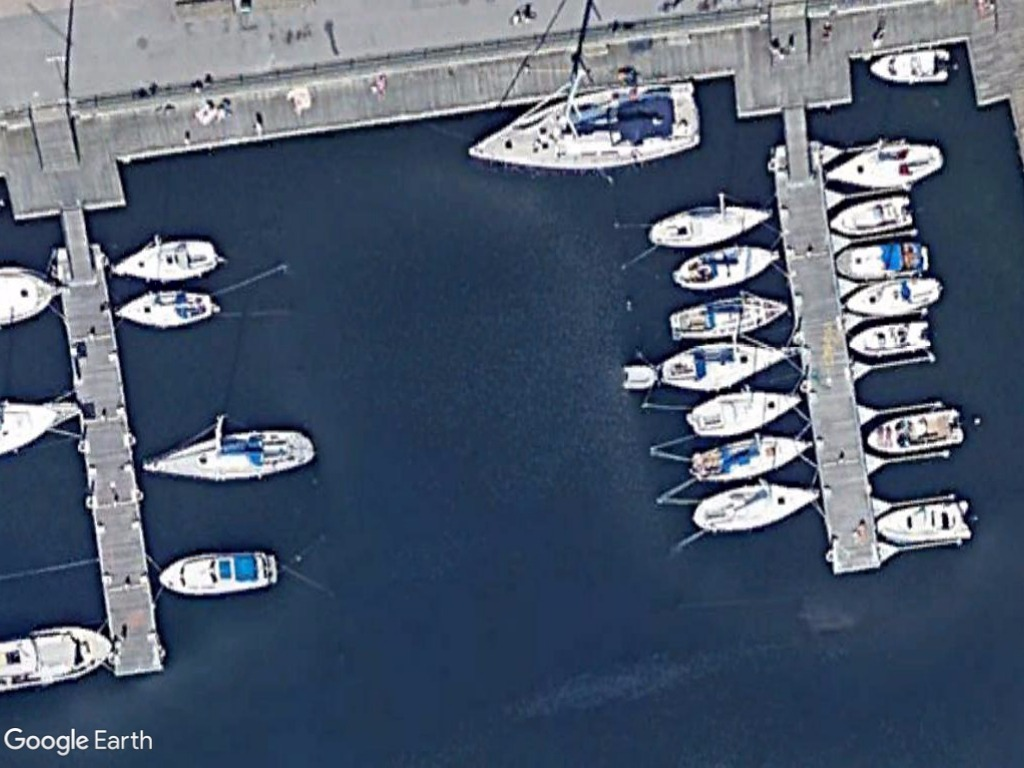boat: (462, 77, 703, 177), (136, 428, 317, 486), (655, 335, 787, 395), (687, 481, 824, 537), (682, 385, 808, 443), (685, 432, 815, 486), (820, 138, 947, 193), (646, 202, 775, 253), (665, 295, 790, 347), (155, 547, 279, 598), (112, 283, 223, 334), (667, 244, 784, 292), (862, 406, 966, 460), (109, 233, 220, 282), (871, 495, 974, 547), (840, 272, 948, 320), (831, 239, 933, 284), (824, 189, 914, 239), (847, 315, 934, 360), (865, 46, 955, 87)
